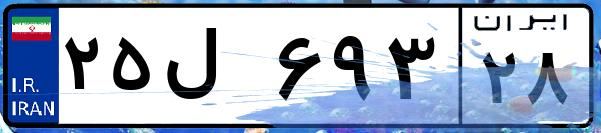2: (57, 26, 110, 100), (475, 38, 525, 113)
3: (385, 28, 445, 110)
5: (110, 28, 158, 98)
6: (270, 28, 330, 110)
8: (525, 38, 570, 115)
9: (330, 28, 385, 110)
ل: (158, 20, 270, 120)
